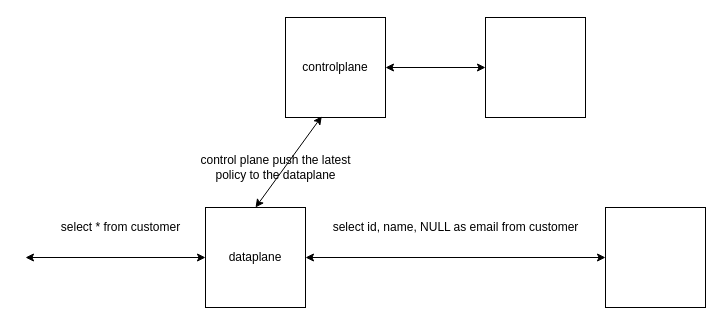
Some shapes in this 723 by 325 pixel diagram are drawn without their labels. Each missing label, with the box of its shape:
github policy repo: (484, 16, 586, 118)
postgres datasource: (604, 206, 706, 308)
